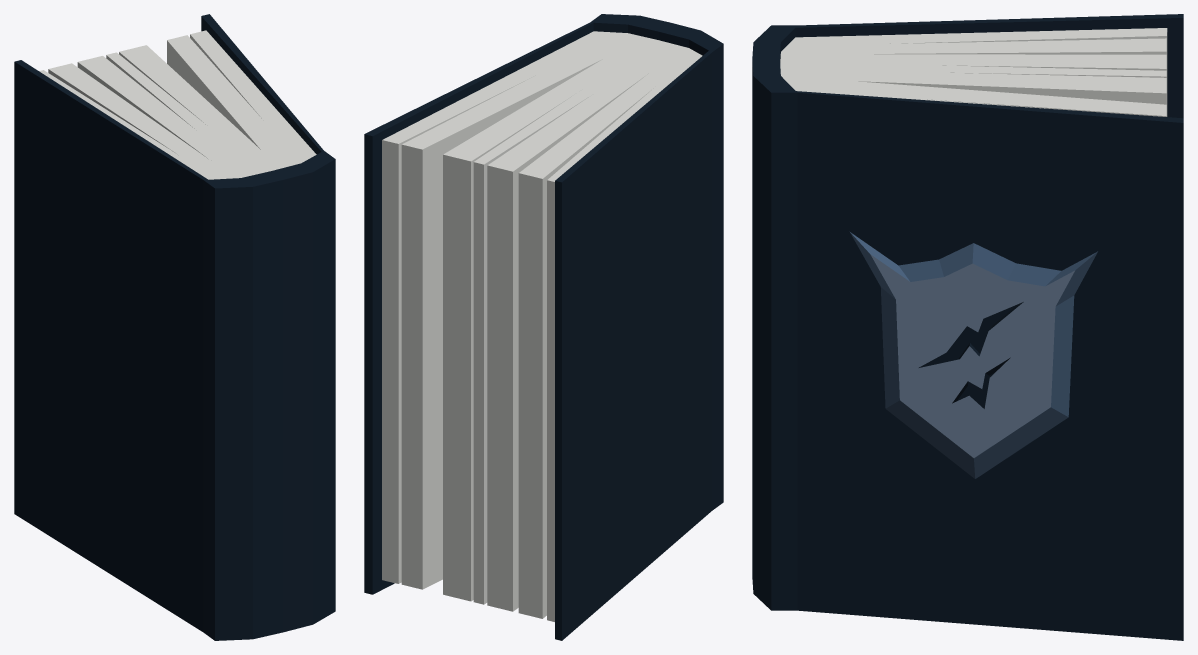
File: ShieldSkillBook.fbx
3 renders of one model, left to right at view 1: azimuth 30°, elevation 25°; view 2: azimuth 150°, elevation 25°; view 3: azimuth 270°, elevation 25°, orthographic. The views are drawn at different scales.
Parts seen in each view (by area): view 1: ShieldSkillBook; view 2: ShieldSkillBook; view 3: ShieldSkillBook.
Boxes of the visible parts, x1,y1,x2,y2 form: ShieldSkillBook: [14, 14, 335, 640]; ShieldSkillBook: [364, 14, 723, 640]; ShieldSkillBook: [752, 14, 1183, 640].
Size of the model in its own units: 125 by 277 by 209.
